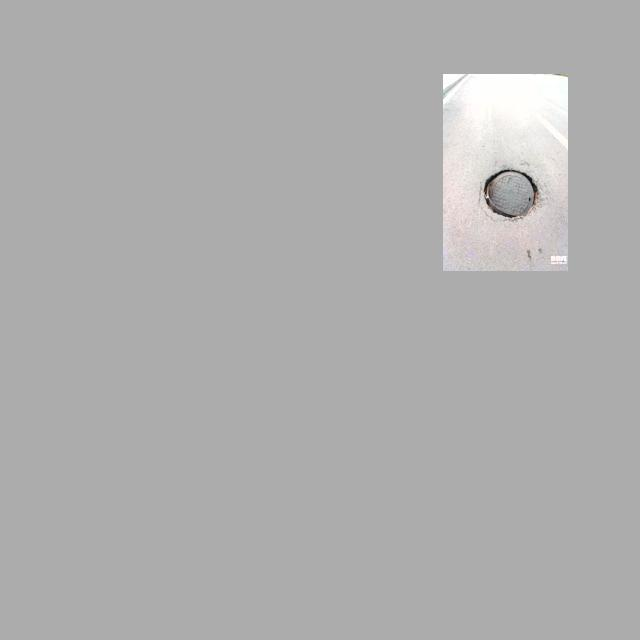circle: (474, 165, 544, 222)
